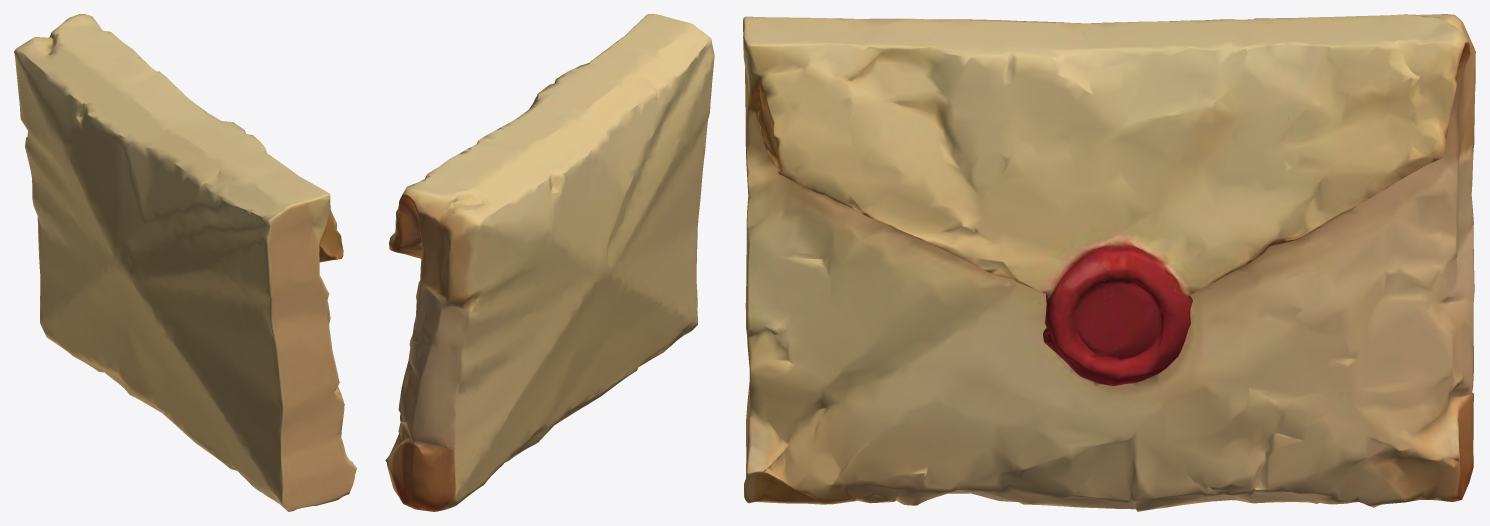
The picture shows the model from 3 angles, left to right: view 1: azimuth 30°, elevation 25°; view 2: azimuth 150°, elevation 25°; view 3: azimuth 270°, elevation 25°; orthographic projection. The views are drawn at different scales.
Visible parts, largest first — view 1: tripo_node_93a2de82-81b1-4972-b4ac-0bd1ec2a5a35; view 2: tripo_node_93a2de82-81b1-4972-b4ac-0bd1ec2a5a35; view 3: tripo_node_93a2de82-81b1-4972-b4ac-0bd1ec2a5a35.
Boxes of the visible parts, bbox=[...] form: tripo_node_93a2de82-81b1-4972-b4ac-0bd1ec2a5a35: bbox=[14, 14, 356, 511]; tripo_node_93a2de82-81b1-4972-b4ac-0bd1ec2a5a35: bbox=[385, 14, 714, 511]; tripo_node_93a2de82-81b1-4972-b4ac-0bd1ec2a5a35: bbox=[743, 14, 1475, 511].
Size of the model in its own units: 0.4331 by 1 by 1.42.
1 material, 1 textured.
